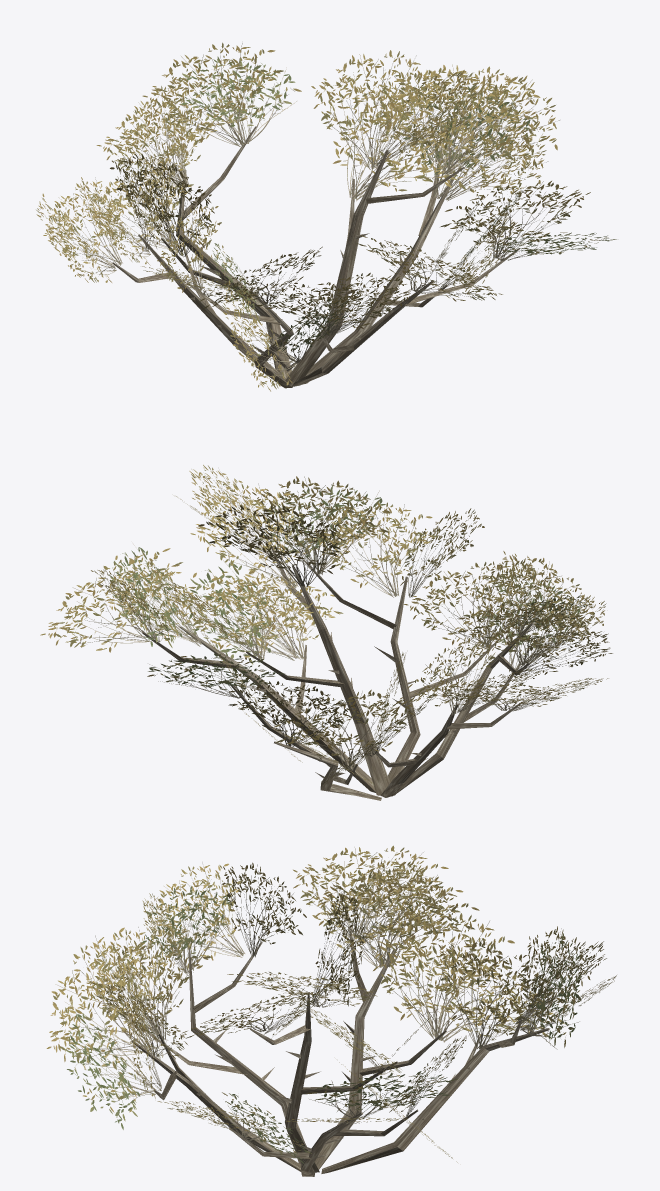
File: dry-shrub-2.glb
3 views of the same model, one above another, from view 1: azimuth 30°, elevation 25°; view 2: azimuth 150°, elevation 25°; view 3: azimuth 270°, elevation 25° (orthographic). The views are drawn at different scales.
Visible parts, largest first — view 1: dry-shrub-2; view 2: dry-shrub-2; view 3: dry-shrub-2.
Boxes of the visible parts, box(x1,y1,x2,y2) form: dry-shrub-2: box(36, 42, 616, 391); dry-shrub-2: box(40, 465, 612, 800); dry-shrub-2: box(46, 845, 616, 1176).
Size of the model in its own units: 1.72 by 0.92 by 1.54.
2 materials, 2 textured.
